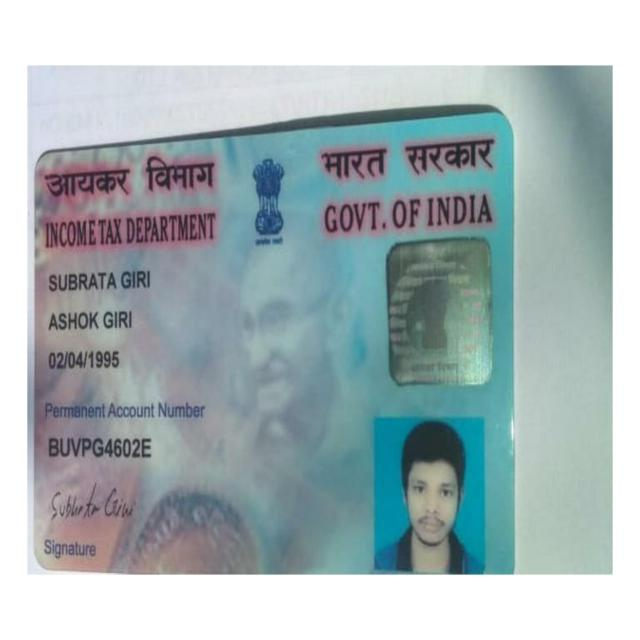pan_card: (39, 115, 508, 572)
